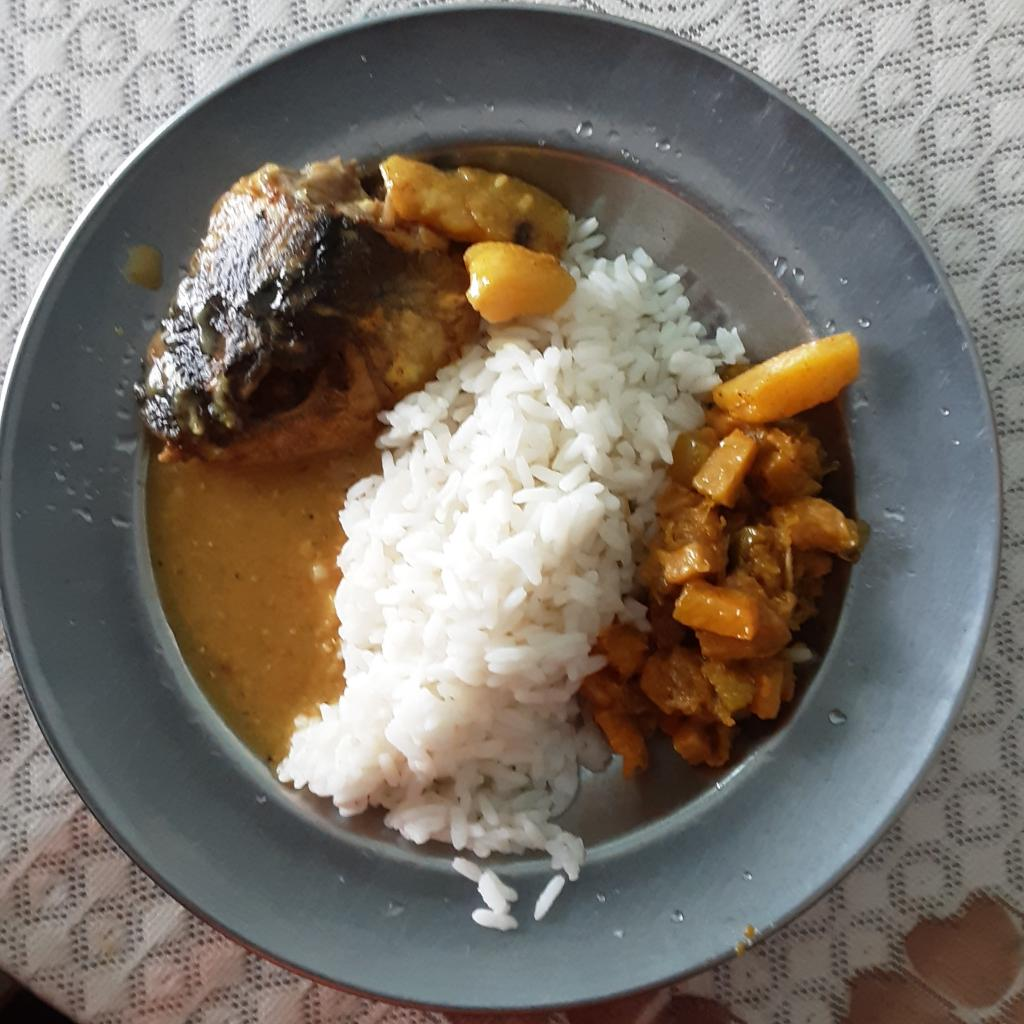daal: (147, 429, 382, 771)
fish: (136, 157, 489, 456)
kumra-vaji: (580, 413, 864, 780)
potato: (382, 144, 580, 327), (718, 329, 866, 429)
rice: (262, 252, 742, 922), (443, 835, 527, 933)
